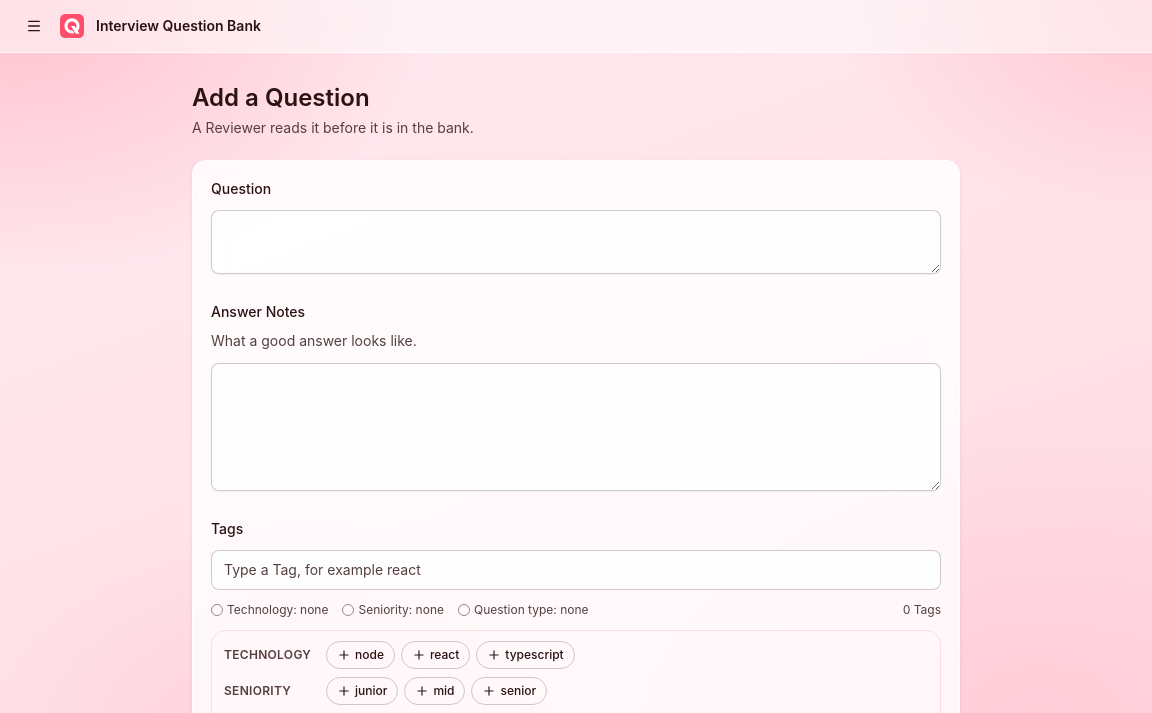
Test case: adding a Question that is refused › names a Tag the API says does not exist, against the Tags
In the text box labelled "Question": (576, 242) [211,210,941,274], type "How would you find a slow query?"
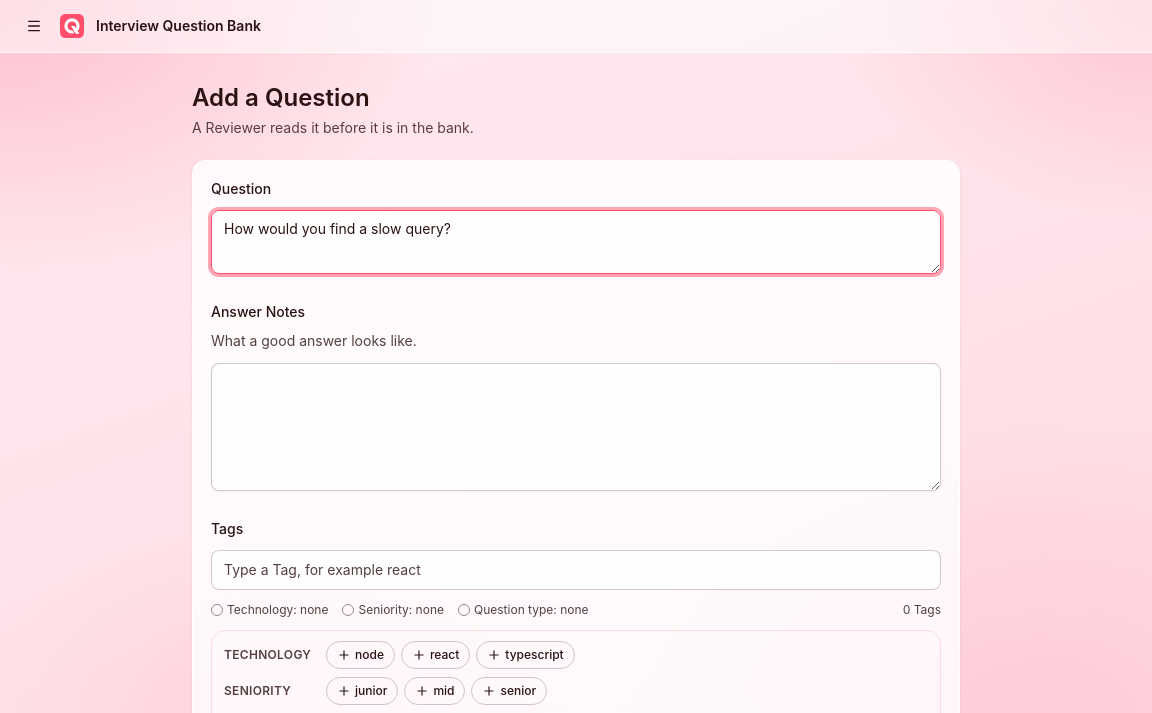
In the text box labelled "Answer Notes": (576, 426) [211,362,941,490], type "Look for EXPLAIN ANALYZE."
(page scrolled)
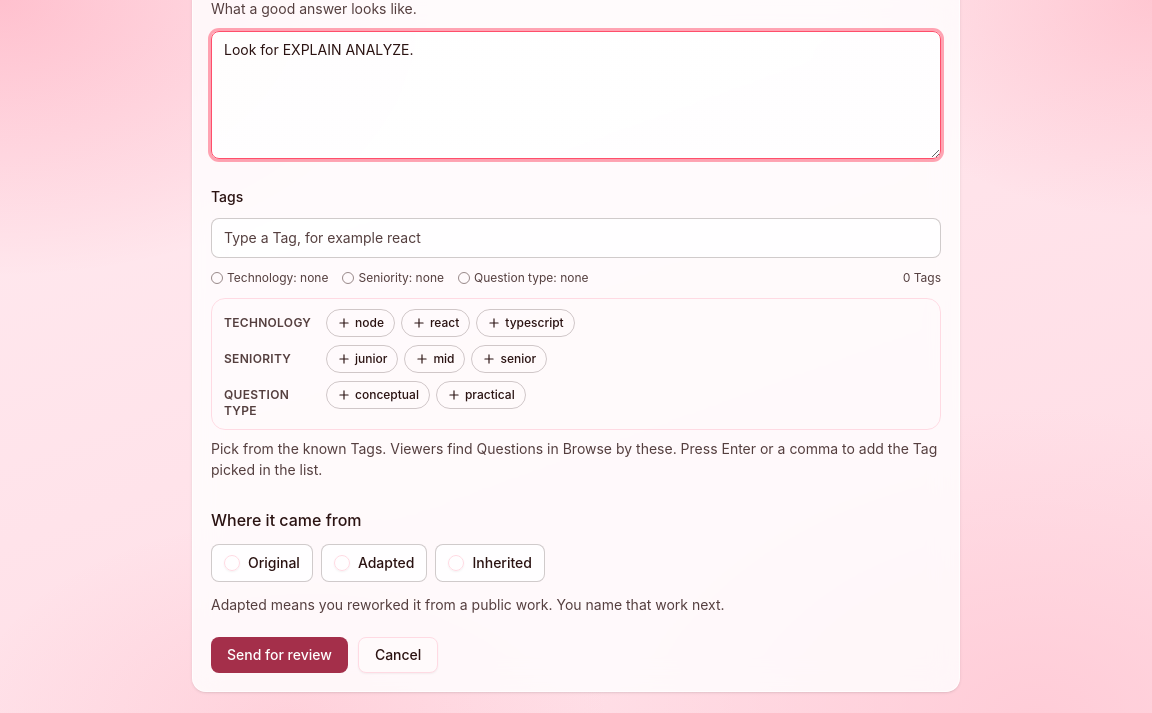
Click the radio button named "Original" next to "Original": (232, 563) [224,555,240,571]
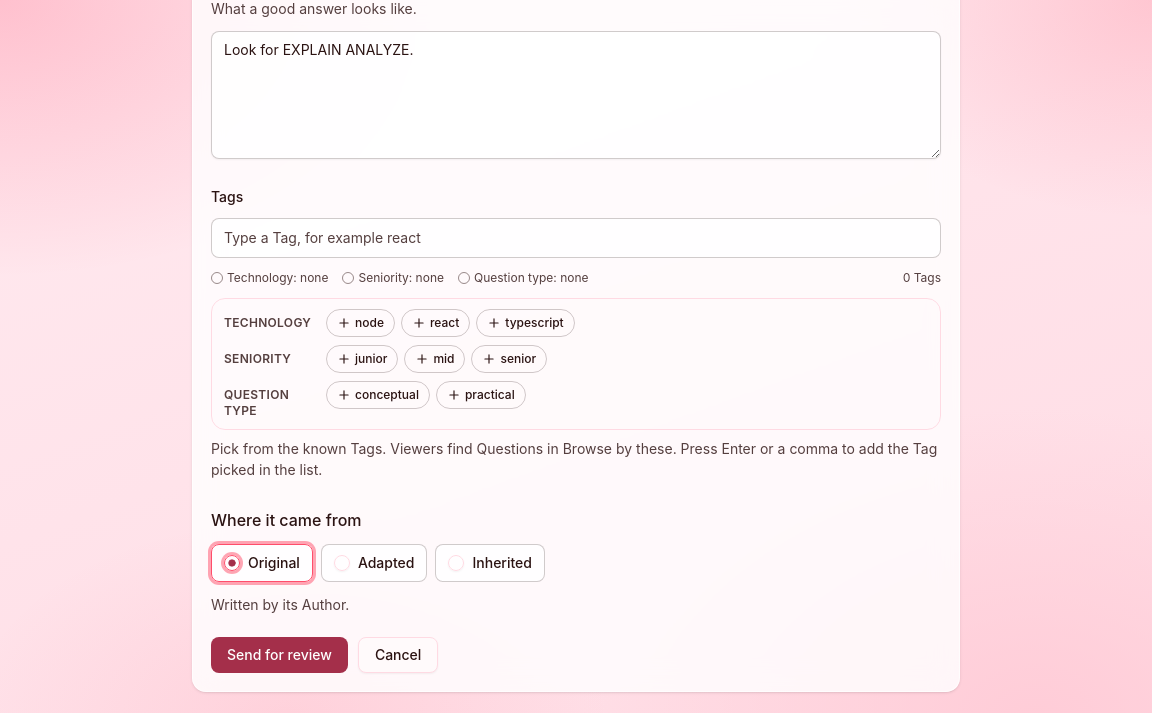
Click the button with aria-label "Add node": (360, 323) [326,309,395,337]
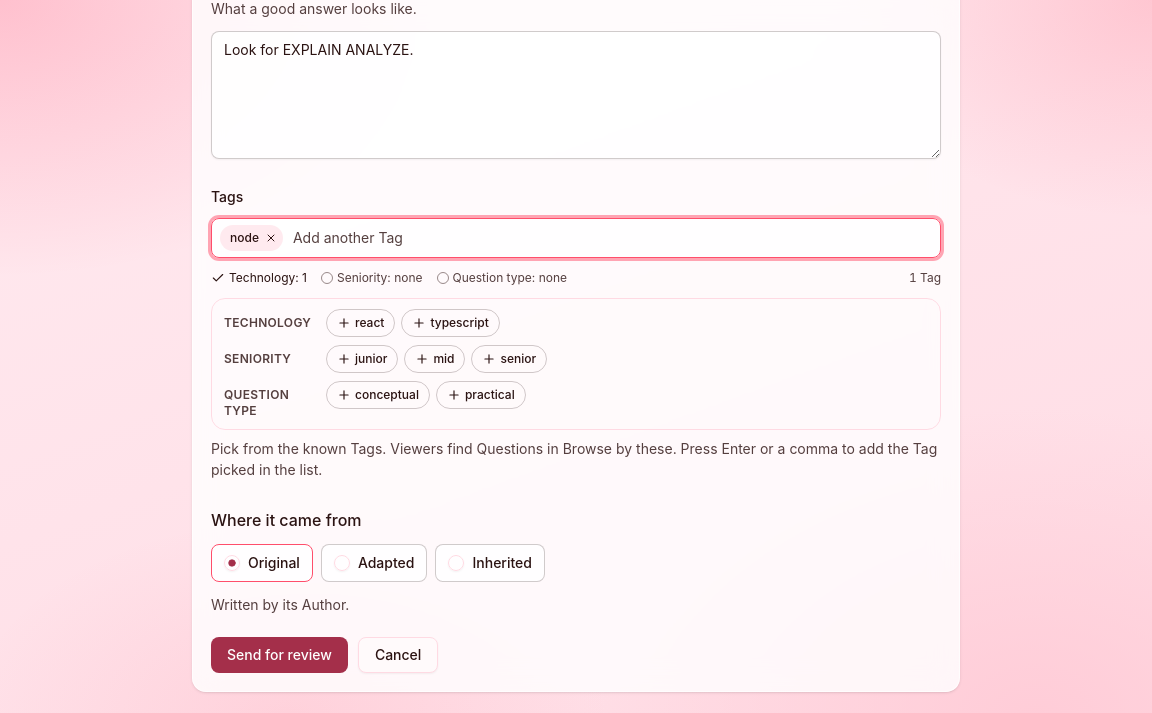
Click the button "Send for review": (279, 655) [211,637,348,673]
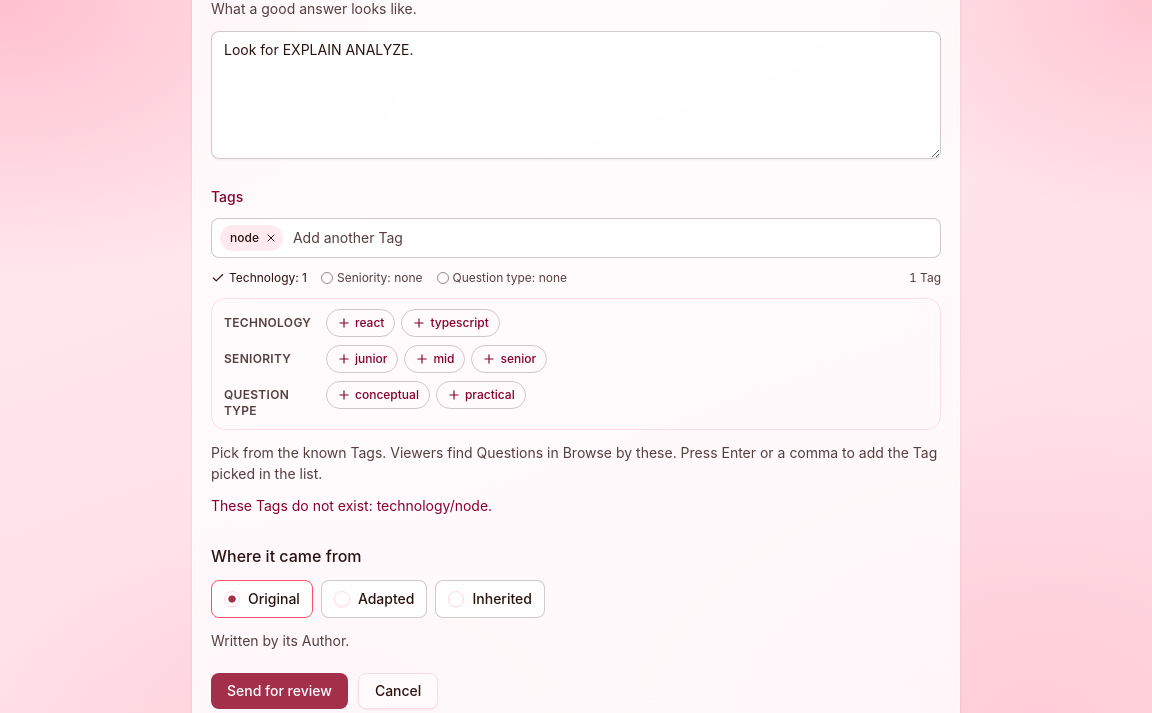
Expected: the text "These Tags do not exist: technology/node." is shown, [211,497,492,514]
